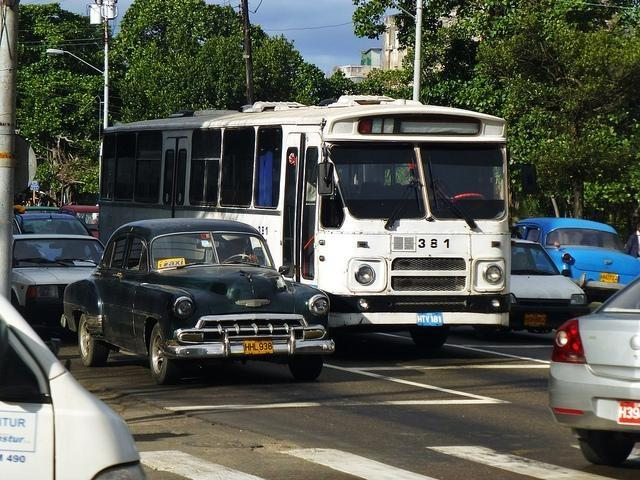bus: (100, 96, 512, 348)
car: (59, 214, 335, 385), (0, 290, 151, 480), (545, 273, 640, 464), (509, 217, 640, 303), (11, 232, 106, 324), (508, 238, 589, 332), (15, 212, 94, 238), (59, 205, 100, 239)
